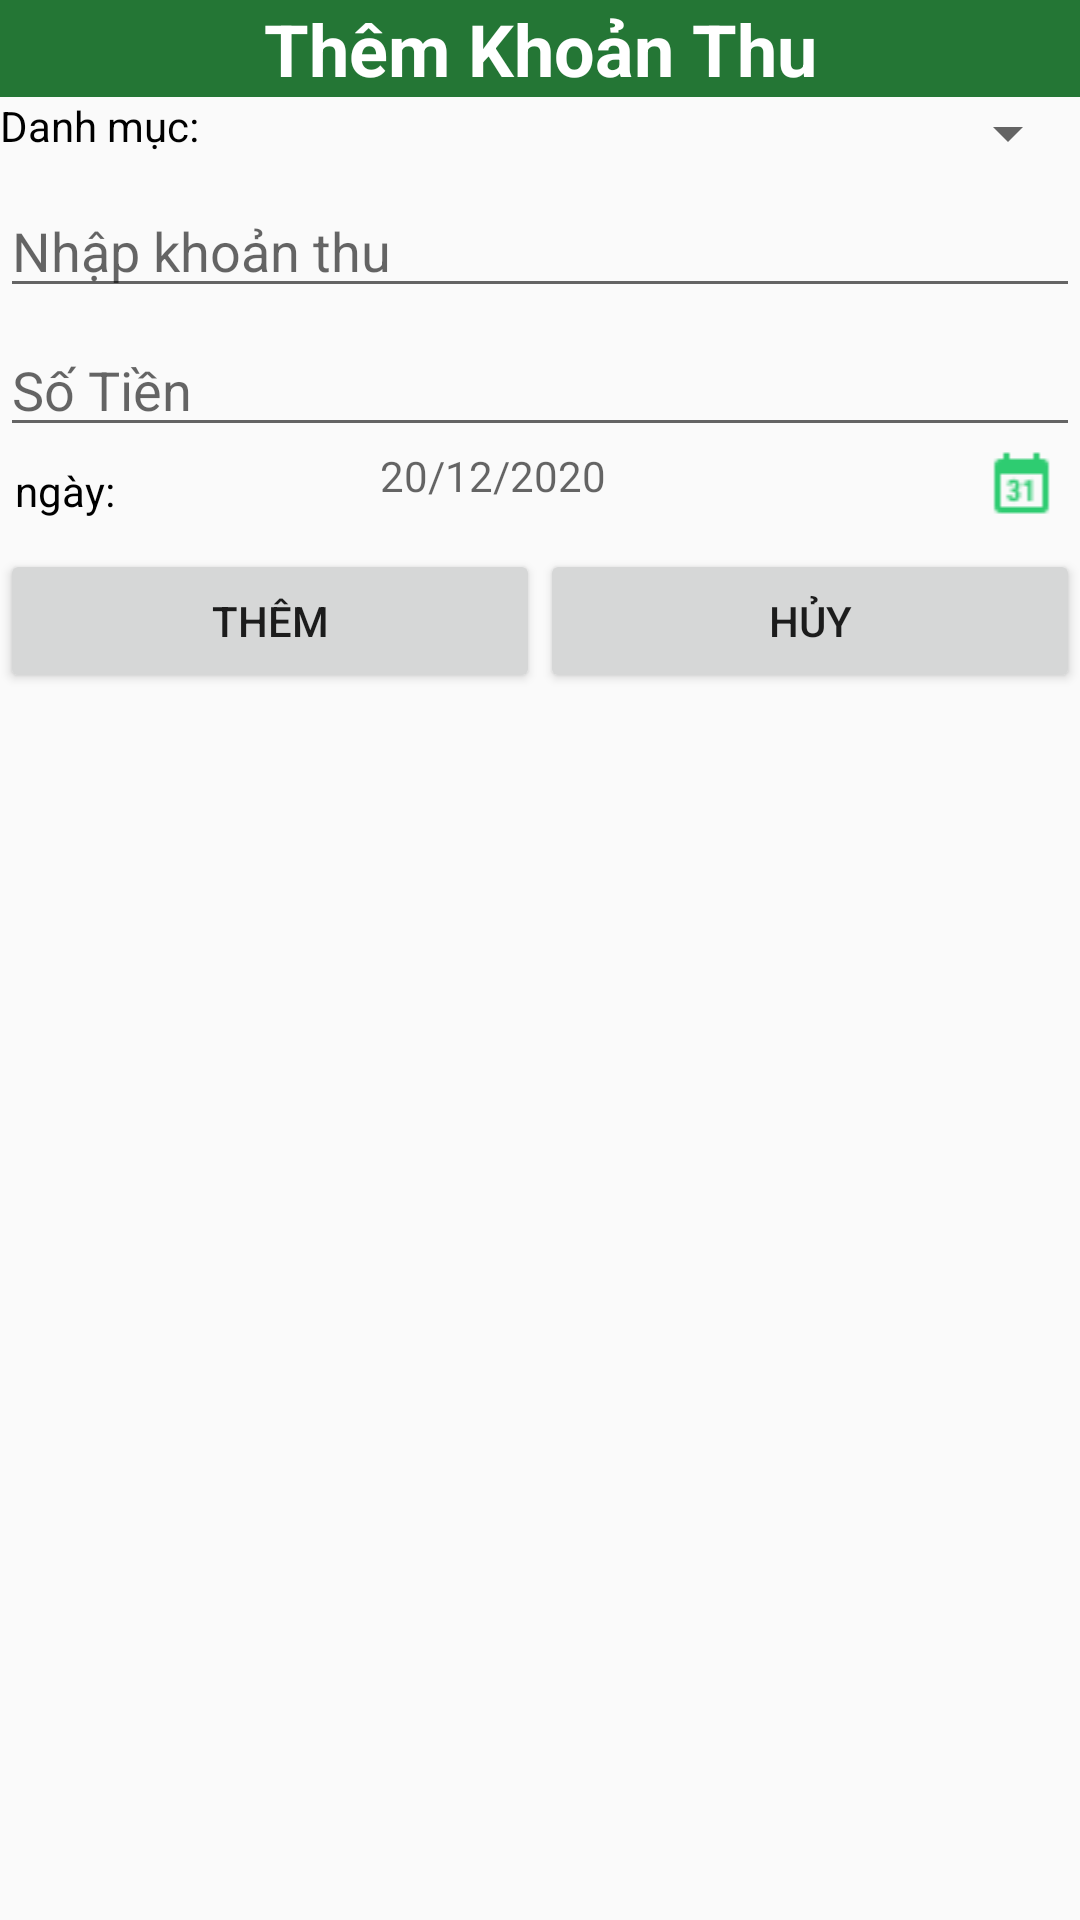

Screen size 1080px x 1920px. Icon name, then its center in pixels as point (x, y):
lich: point (1021, 483)
